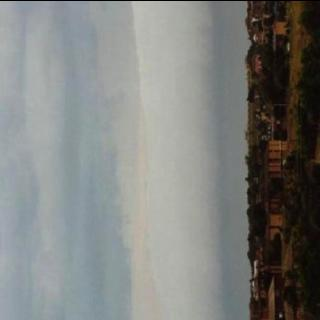Stratocumulus: (0, 0, 227, 320)
